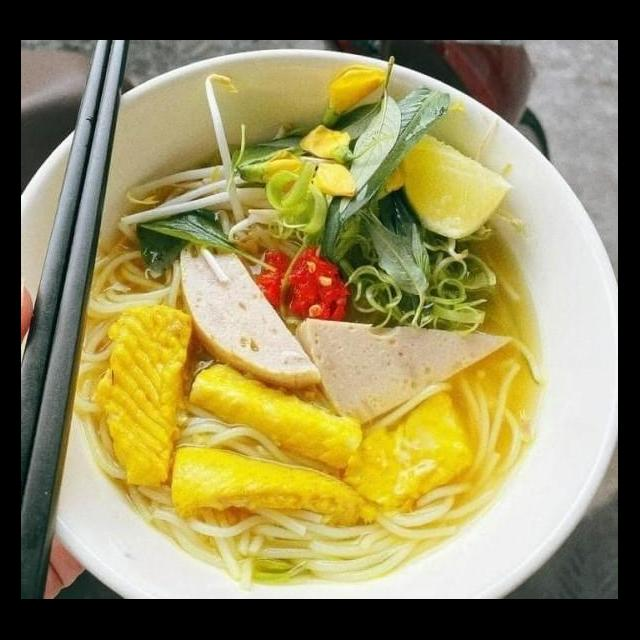bun: (142, 502, 470, 590), (446, 354, 538, 494), (78, 230, 190, 320)
bun ca: (35, 86, 604, 600)
ca: (164, 438, 374, 536), (188, 362, 368, 474), (94, 294, 192, 496), (348, 386, 473, 520)
rau ram: (230, 54, 458, 336), (132, 202, 280, 284)
